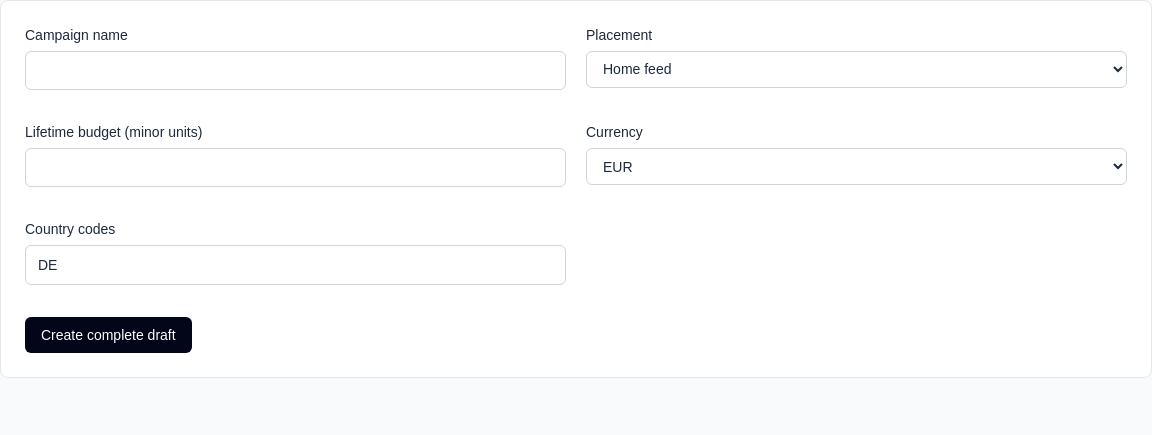
Scenario: CampaignForm › rejects an incomplete campaign before submission
Click the button "Create complete draft" at (108, 335), box [25,317,192,353]
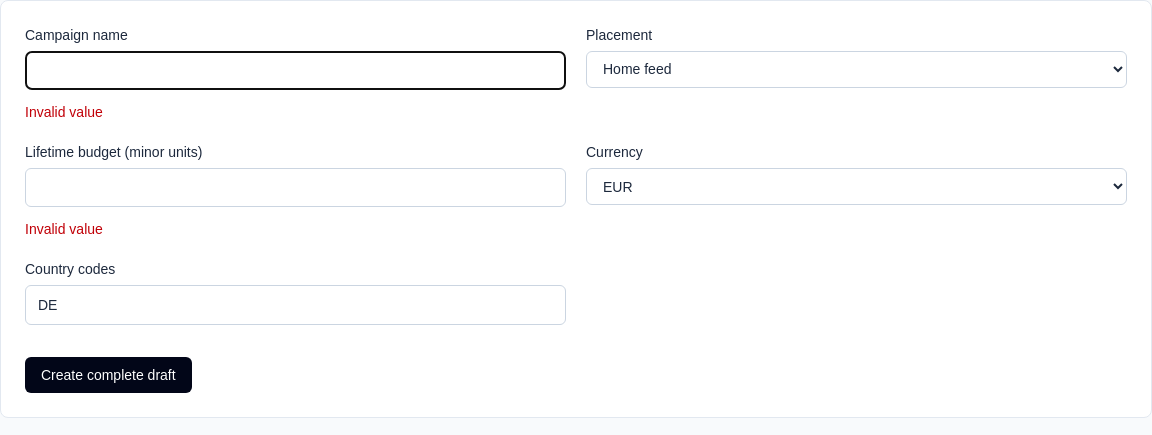
Result: the text "Invalid value" is shown 2 times at [25,104,103,120]; [25,221,103,237]
